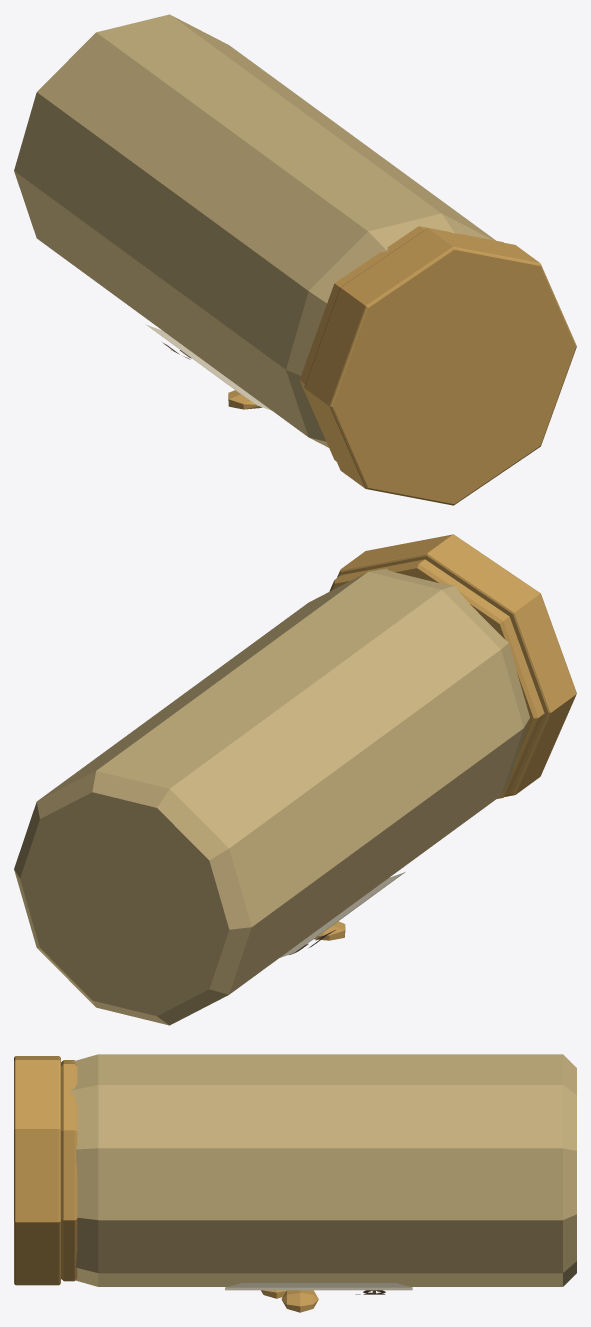
The model's file is turmeric.glb.
3 views of the same model, one above another, from view 1: azimuth 30°, elevation 25°; view 2: azimuth 150°, elevation 25°; view 3: azimuth 270°, elevation 25° (orthographic). The views are drawn at different scales.
Parts seen in each view (by area): view 1: turmeric; view 2: turmeric; view 3: turmeric.
Part boxes in pixels (x1,y1,x2,y2): turmeric: (14, 14, 576, 505); turmeric: (14, 534, 576, 1025); turmeric: (14, 1054, 576, 1312).
Size of the model in its own units: 0.052 by 0.0545 by 0.12.
